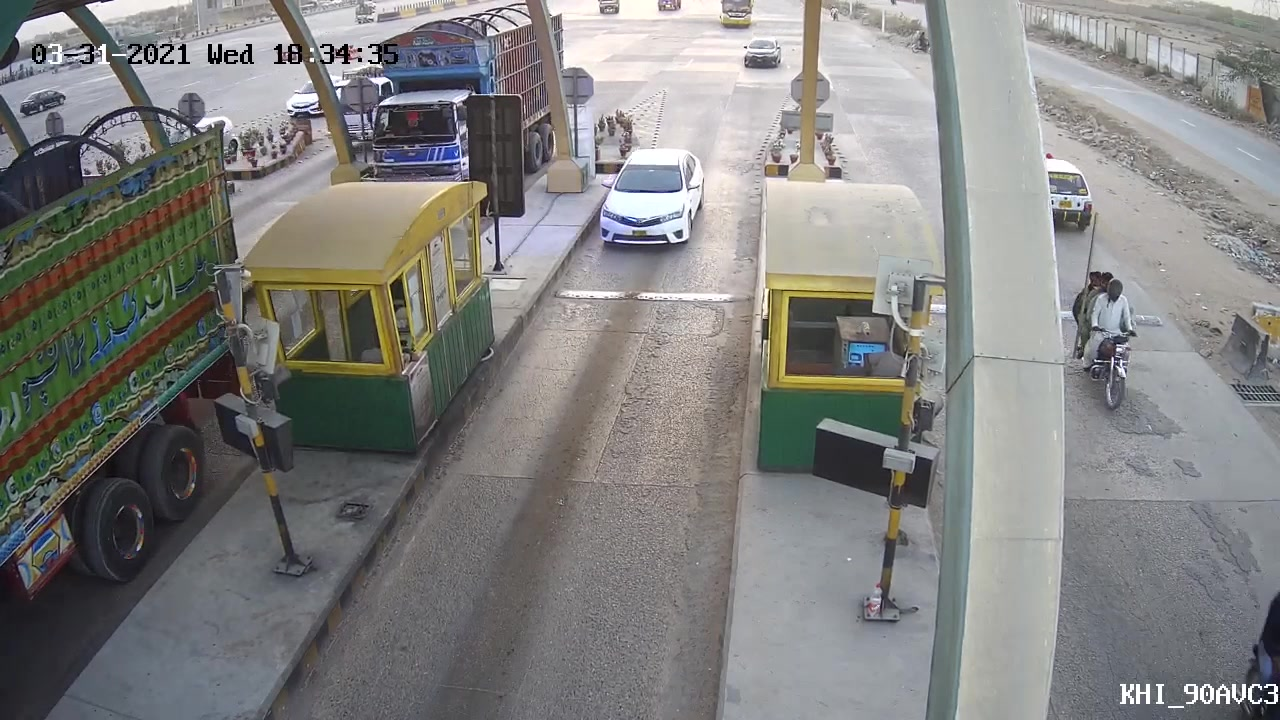F1: (595, 143, 702, 251)
